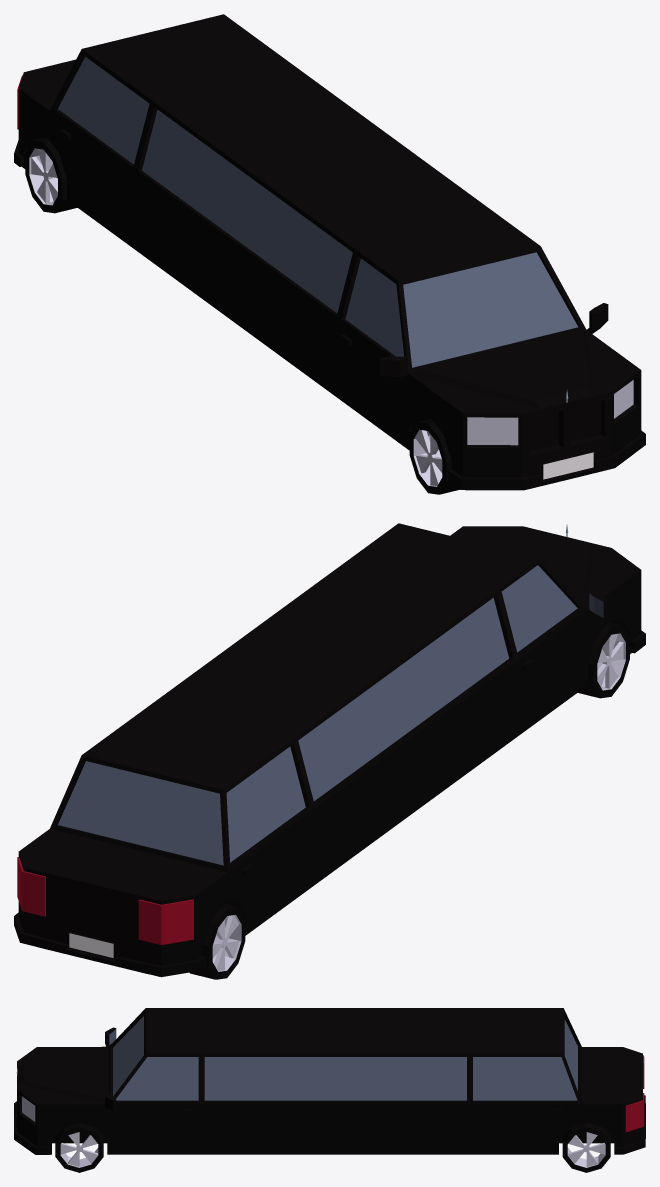
Rendered from Limousine.gltf.
The picture shows the model from 3 angles, top to bottom: view 1: azimuth 30°, elevation 25°; view 2: azimuth 150°, elevation 25°; view 3: azimuth 270°, elevation 25°; orthographic projection. The views are drawn at different scales.
Parts seen in each view (by area): view 1: Limousine, Limousine_wheel_rear_right, Limousine_wheel_front_right; view 2: Limousine, Limousine_wheel_rear_right, Limousine_wheel_front_right; view 3: Limousine, Limousine_wheel_rear_left, Limousine_wheel_front_left.
Part boxes in pixels (x1,y1,x2,y2): Limousine: (14, 14, 645, 490); Limousine_wheel_rear_right: (25, 137, 77, 213); Limousine_wheel_front_right: (409, 418, 459, 494); Limousine: (14, 523, 645, 977); Limousine_wheel_rear_right: (189, 903, 245, 979); Limousine_wheel_front_right: (578, 622, 629, 698); Limousine: (14, 1008, 645, 1154); Limousine_wheel_rear_left: (562, 1123, 610, 1172); Limousine_wheel_front_left: (55, 1123, 103, 1172).
Bounding box in the file's own units: 281 × 201 × 1024.
